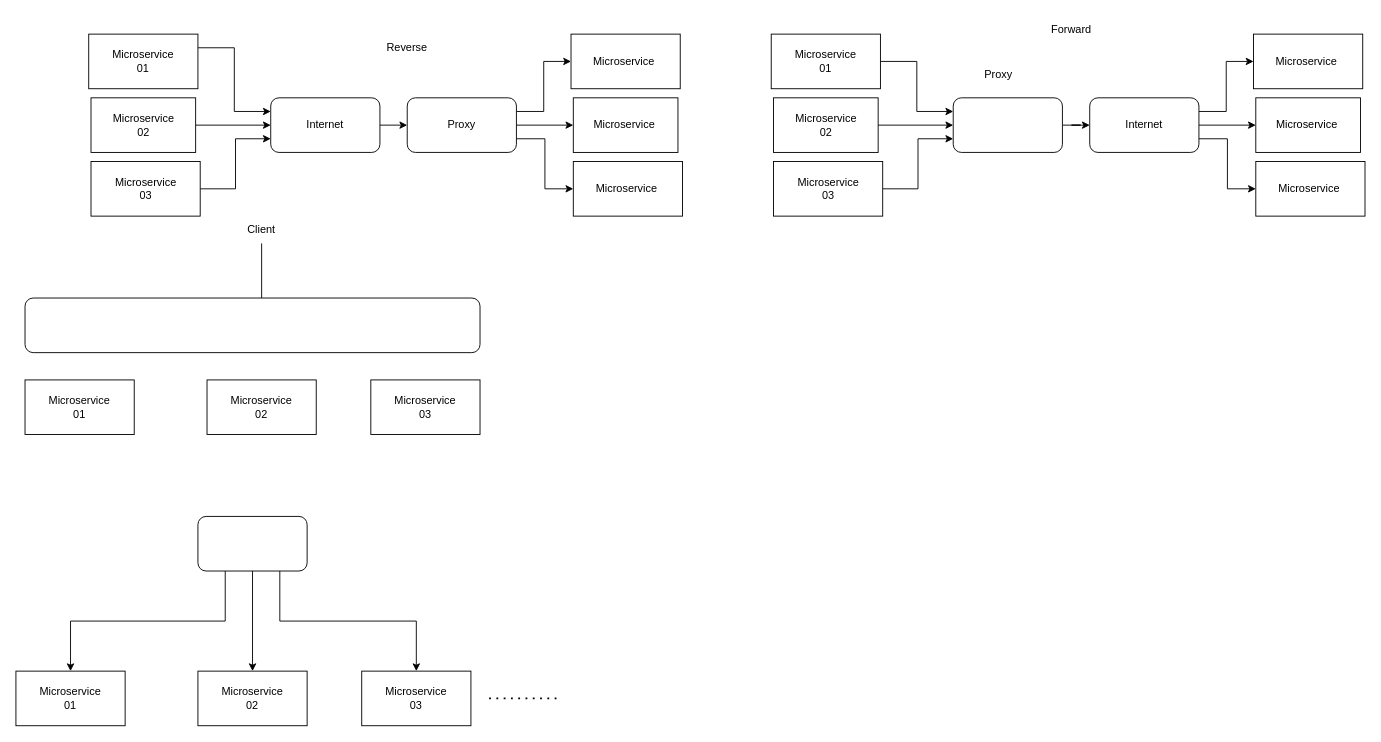
The diagram is 1381 pixels wide and 742 high, and some of its shapes have lost their labels. The box of each missing label's shape, as (x1, y1, x2, y2) in pixels:
Authentication: (197, 516, 307, 571)
Gate way: (24, 297, 480, 353)
Server: (952, 97, 1062, 152)
